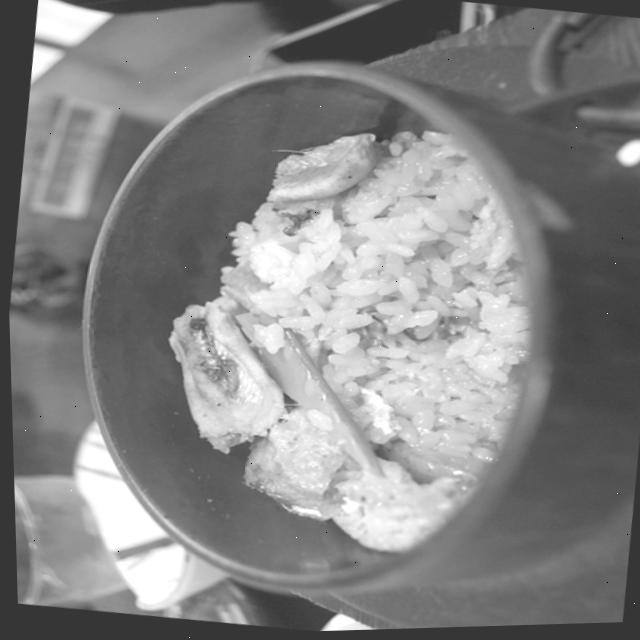蔬菜料理: (58, 45, 578, 443)
